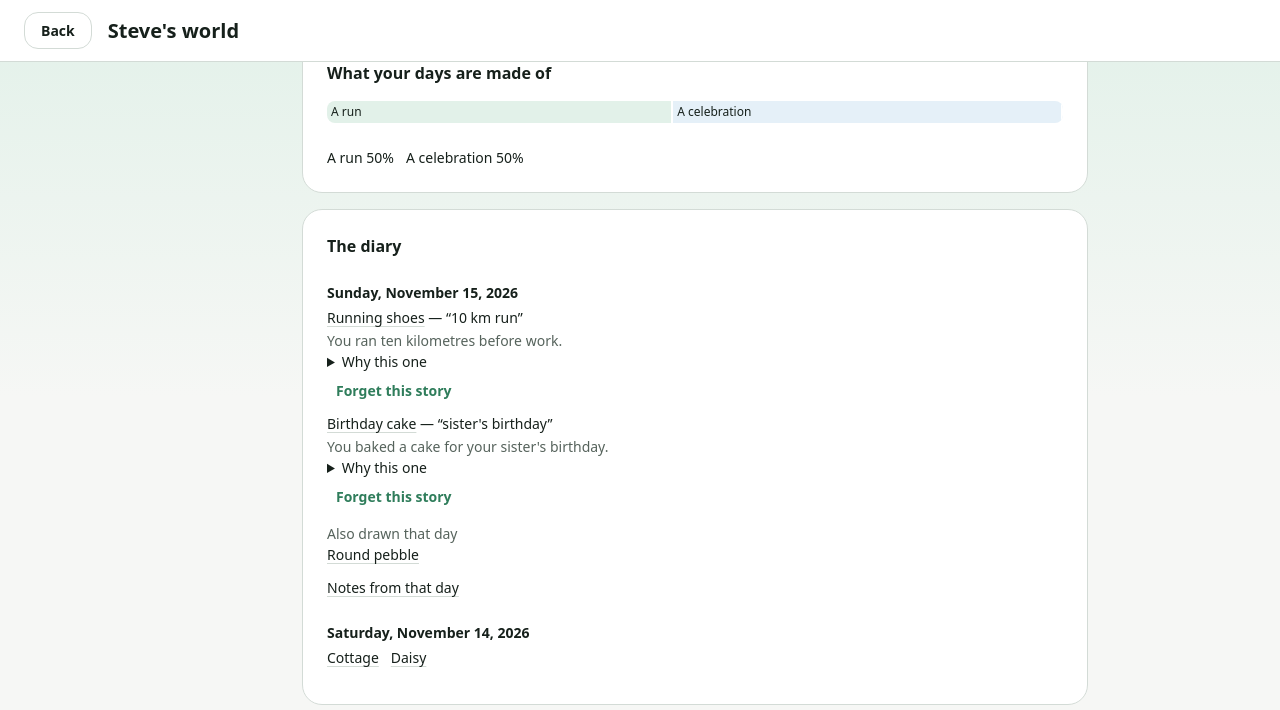
it: WorldView as a diary › forgets a story after confirming and offers a fresh context
This screenshot has width=1280, height=710.
(page scrolled)
What coordinates should you click on to do the following:
click the button "Forget this story" below "— “10 km run”"
I would click on:
 (394, 390)
Its box is top-left (327, 372), bottom-right (461, 409).
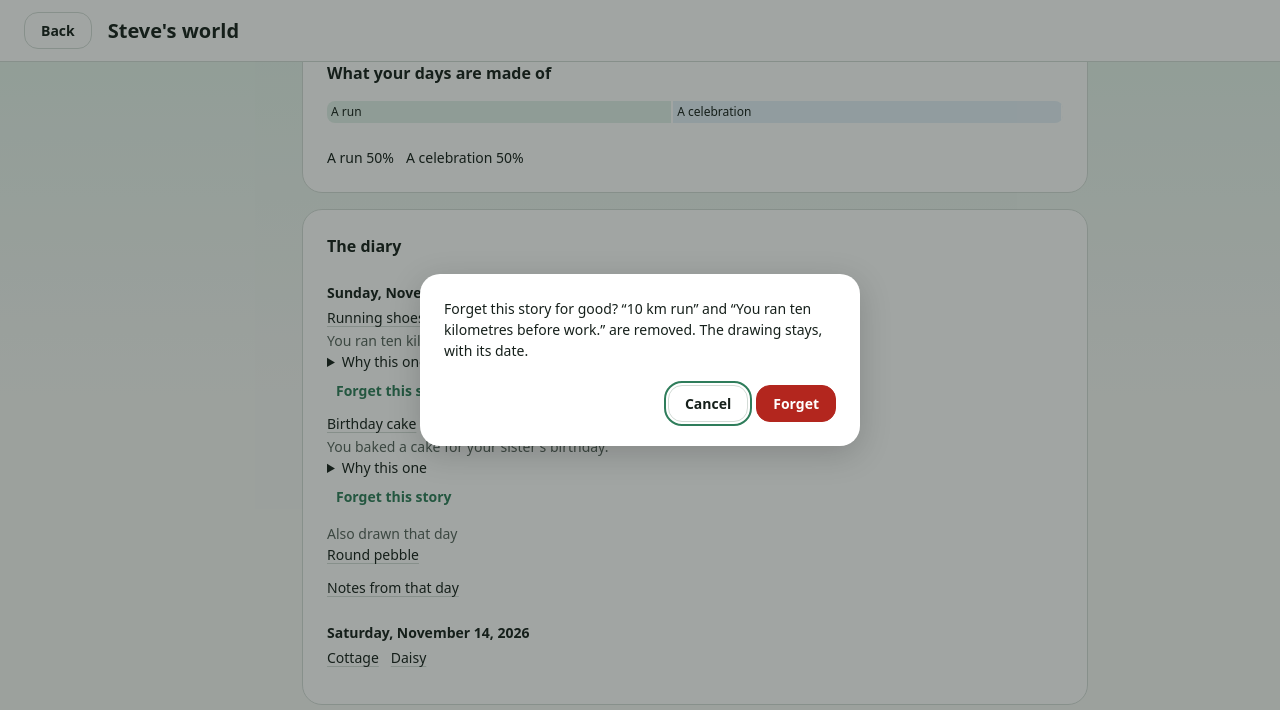
expect the dialog shows "“10 km run”": met, box top-left (444, 299), bottom-right (822, 360)
expect the dialog shows "“You ran ten kilometres before work.”": met, box top-left (444, 299), bottom-right (822, 360)
What coordinates should you click on to do the following:
click the button "Forget"
I would click on:
 (796, 404)
Its box is top-left (756, 385), bottom-right (836, 422).
(page scrolled)
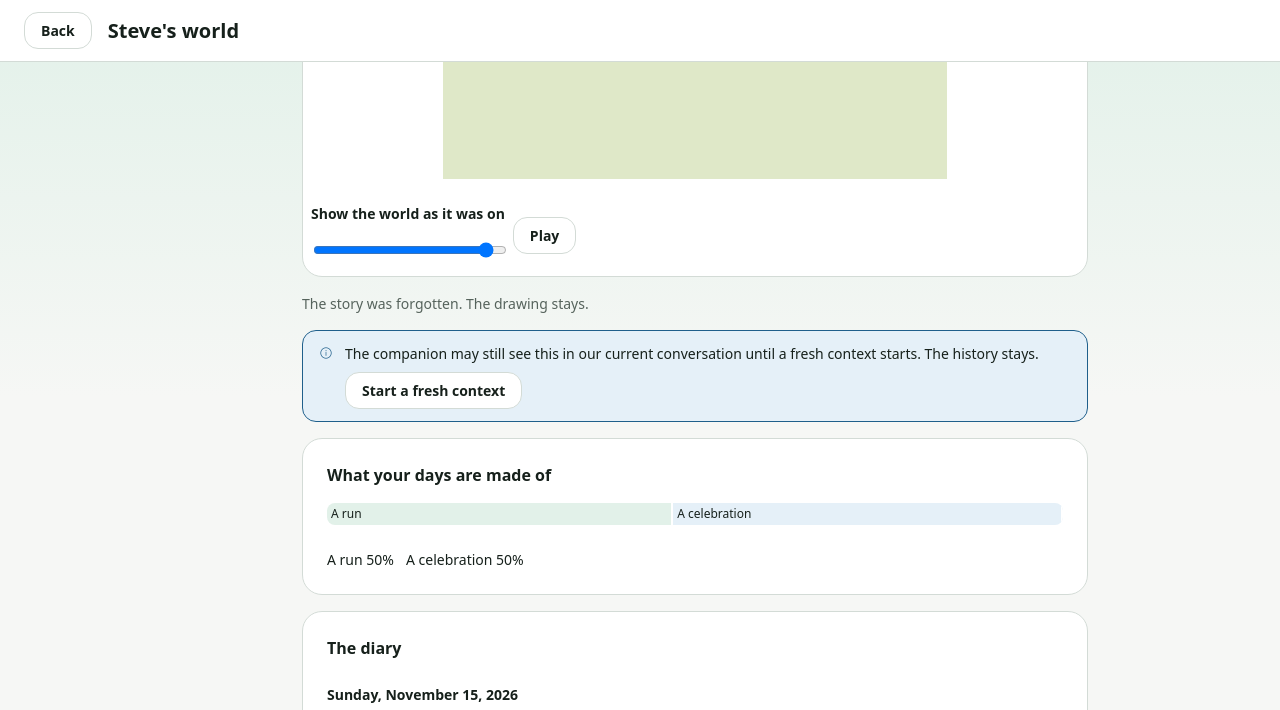
expect the text "The story was forgotten. The drawing stays." is shown: met, box top-left (302, 294), bottom-right (589, 313)
expect the button "Start a fresh context" is shown: met, box top-left (345, 372), bottom-right (522, 409)
